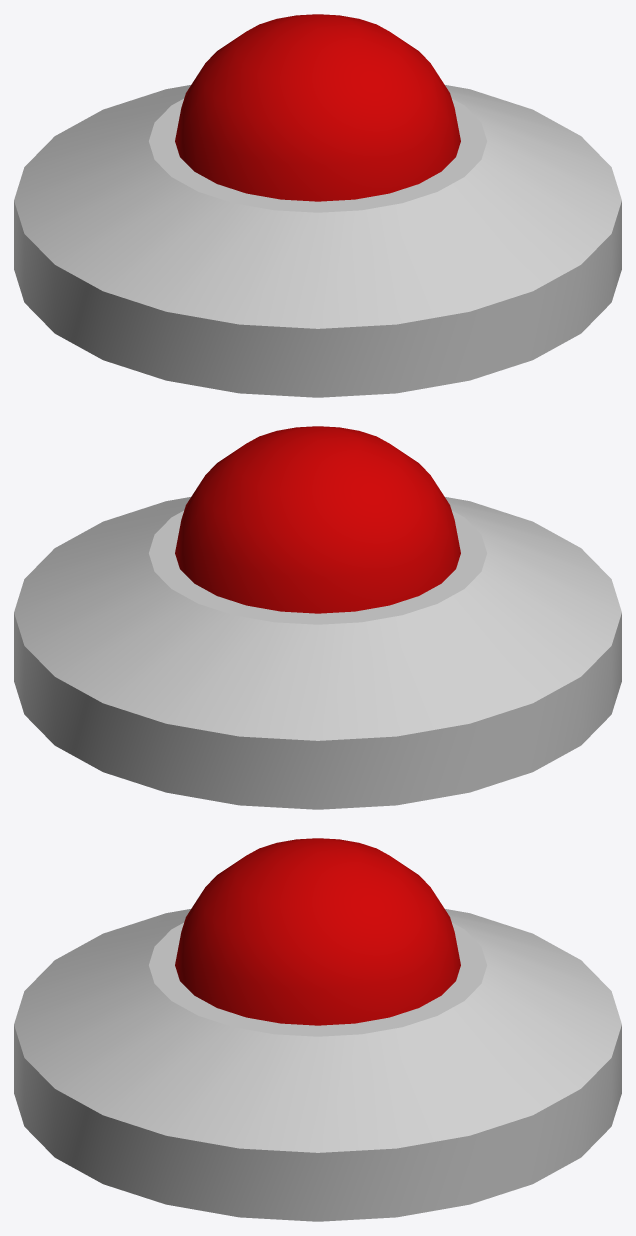
The model's file is Laser.fbx.
3 renders of one model, top to bottom at view 1: azimuth 30°, elevation 25°; view 2: azimuth 150°, elevation 25°; view 3: azimuth 270°, elevation 25°, orthographic.
Visible parts, largest first — view 1: Zylinder; view 2: Zylinder; view 3: Zylinder.
Boxes of the visible parts, bbox=[...] form: Zylinder: bbox=[14, 14, 621, 397]; Zylinder: bbox=[14, 426, 621, 809]; Zylinder: bbox=[14, 838, 621, 1221].
Bounding box in the file's own units: 40 × 17.5 × 40.
